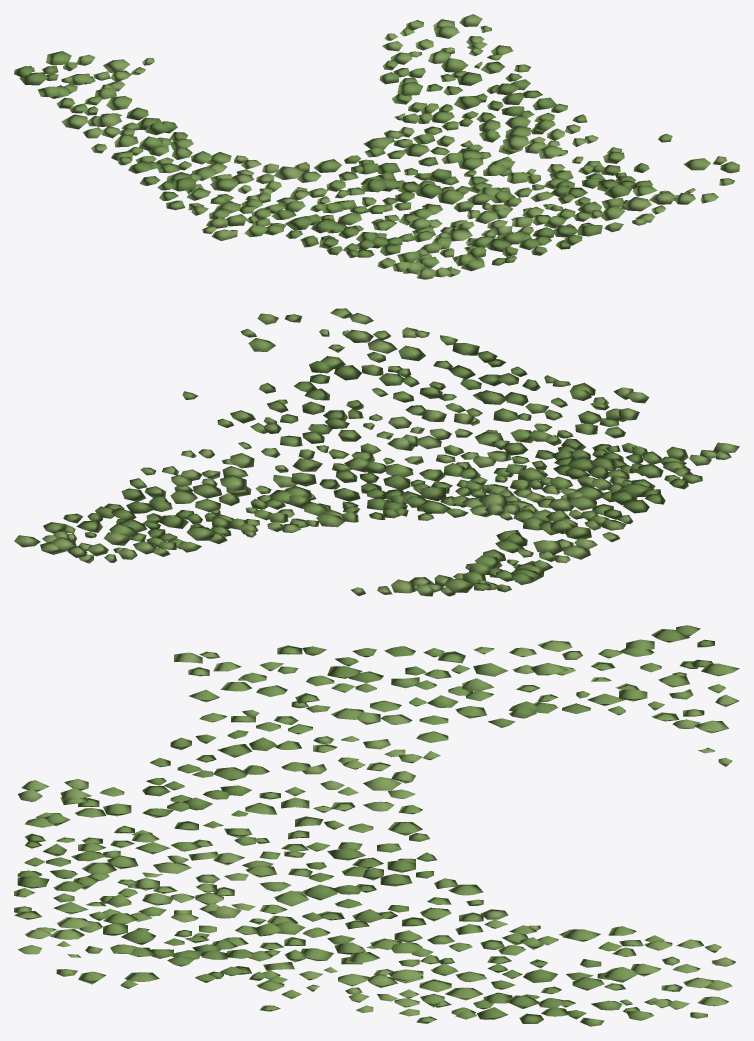
File: canopy-1--1--6.glb
3 views of the same model, one above another, from view 1: azimuth 30°, elevation 25°; view 2: azimuth 150°, elevation 25°; view 3: azimuth 270°, elevation 25° (orthographic). The views are drawn at different scales.
Bounding box in the file's own units: 515 × 97.5 × 510.
Materials: 1 (1 with a texture image).
